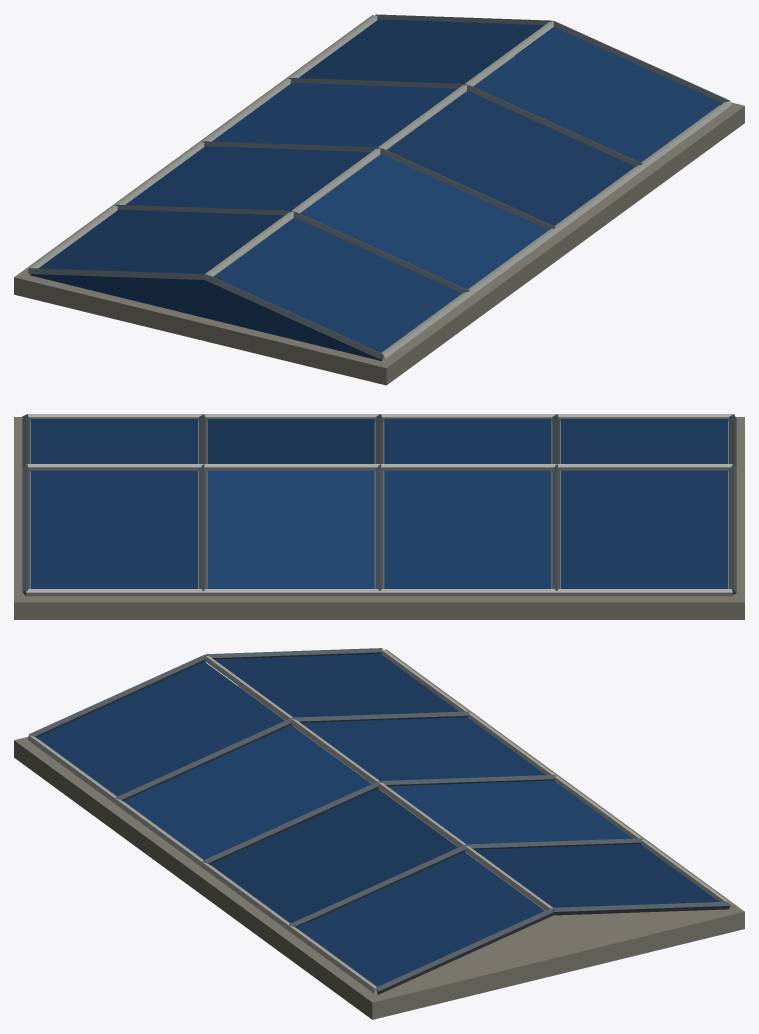
The model's file is FluffSystem-01-Building-07-GlassRoof-2-03.glb.
3 views of the same model, one above another, from view 1: azimuth 30°, elevation 25°; view 2: azimuth 150°, elevation 25°; view 3: azimuth 270°, elevation 25° (orthographic).
Visible parts, largest first — view 1: FluffSystem-01-Building-07-GlassRoof-2-03; view 2: FluffSystem-01-Building-07-GlassRoof-2-03; view 3: FluffSystem-01-Building-07-GlassRoof-2-03.
Part boxes in pixels (x1,y1,x2,y2): FluffSystem-01-Building-07-GlassRoof-2-03: (14,14,744,385); FluffSystem-01-Building-07-GlassRoof-2-03: (14,414,744,619); FluffSystem-01-Building-07-GlassRoof-2-03: (14,648,744,1019).
Size of the model in its own units: 69.96 by 5.71 by 61.18.
